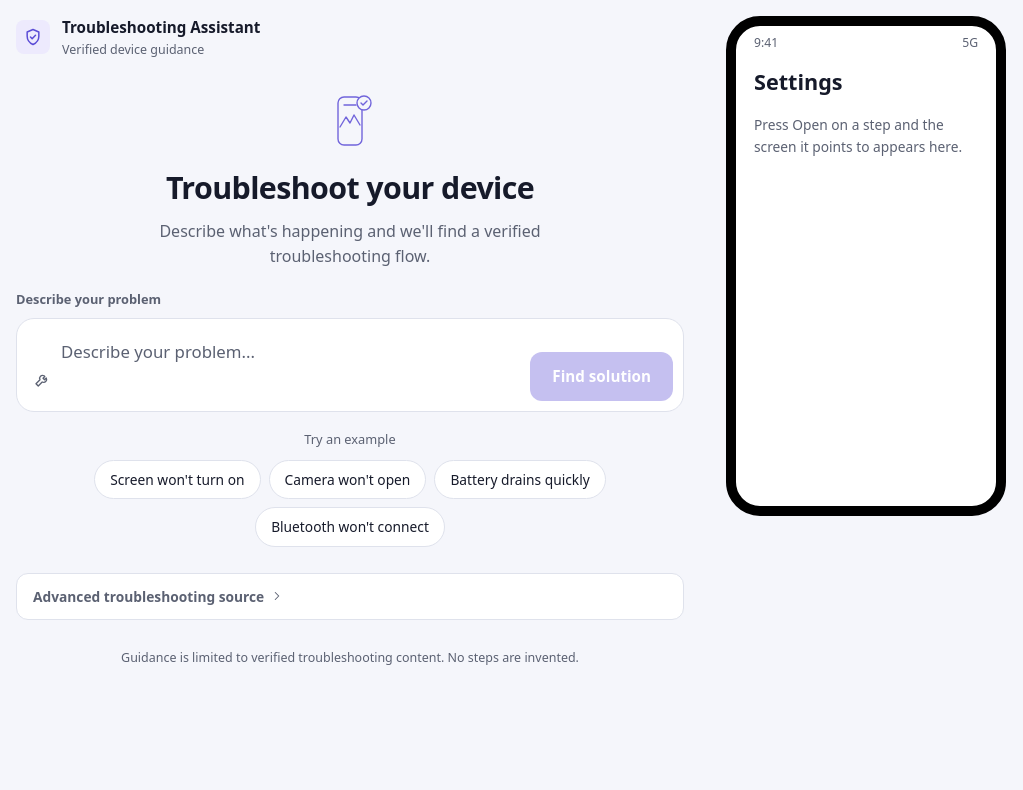
Test: App › distinguishes a truly empty knowledge base from an ordinary no-match
In the text box labelled "Describe your problem": [291, 365] box [61,329,520,401], type "anything"
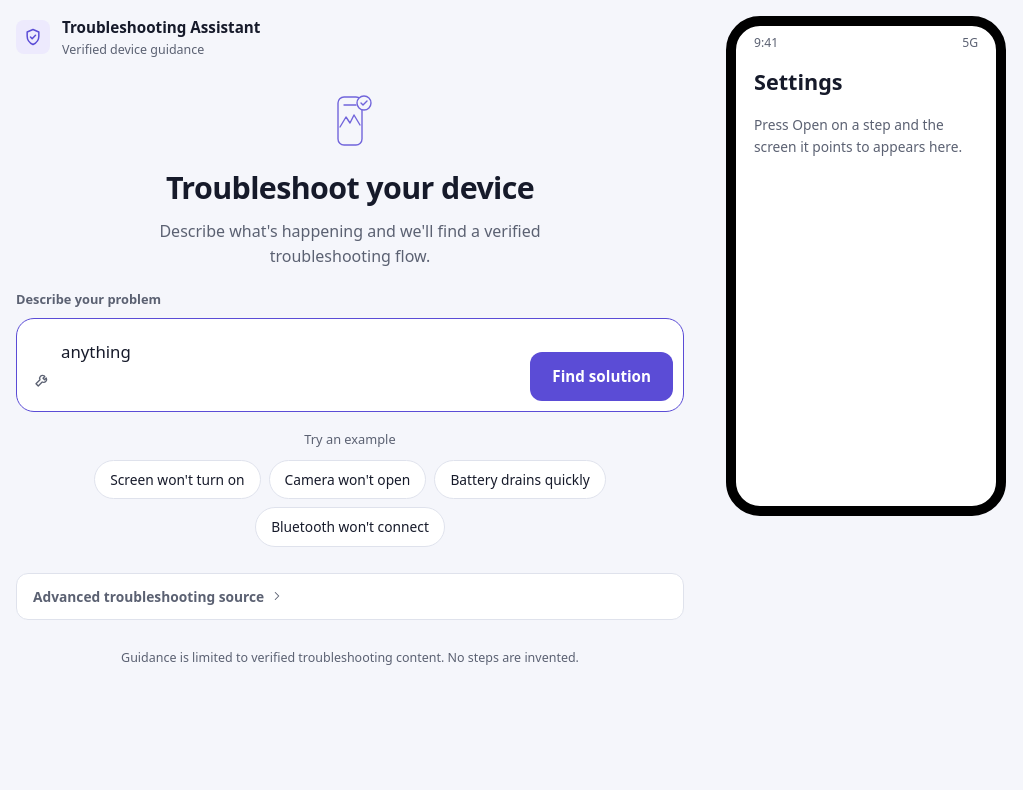
Click the button "Find solution": [602, 377] box [530,352,673,401]
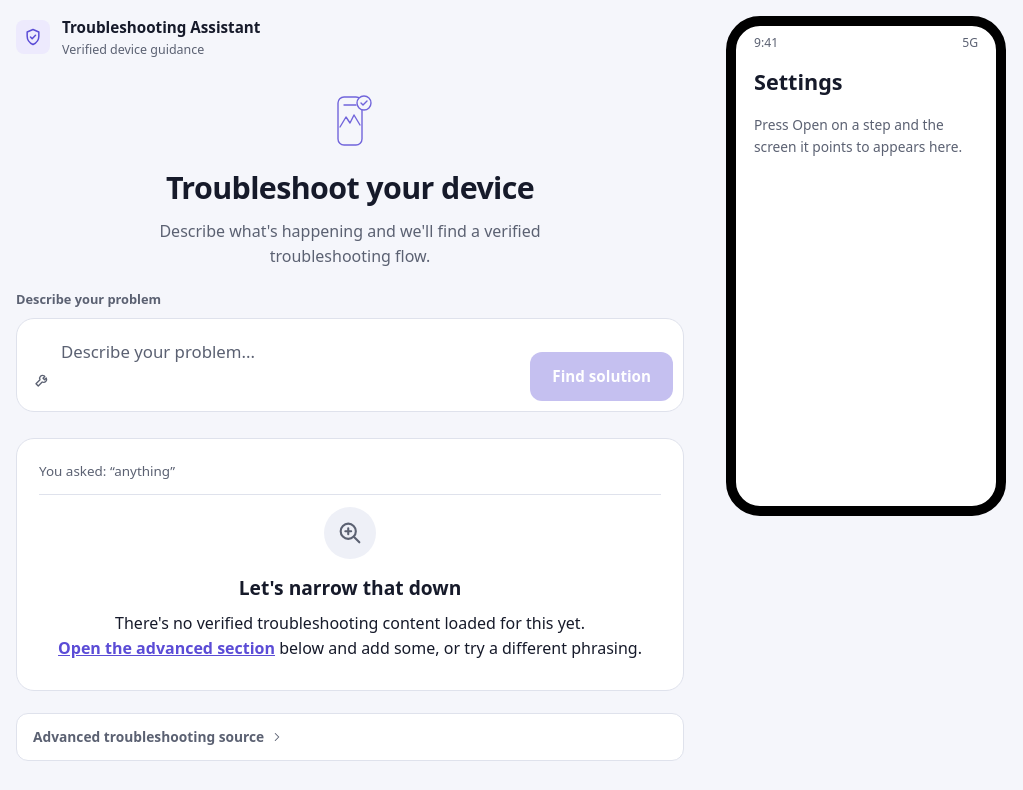
Check: the text "no verified troubleshooting content loaded" is shown, box [115,612,585,634]
